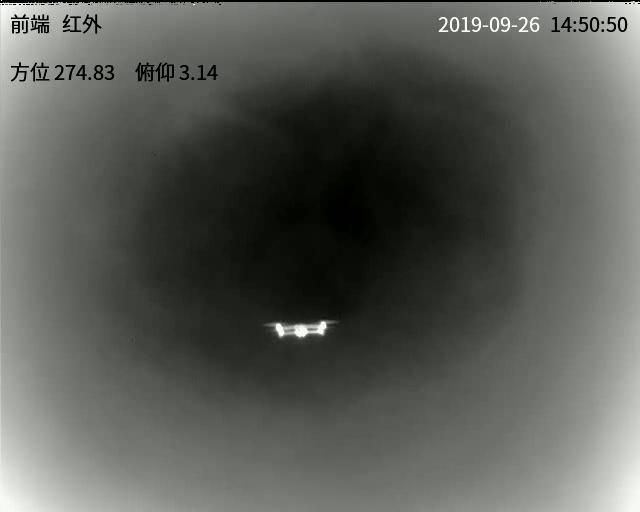DRONE: (269, 320, 331, 337)
